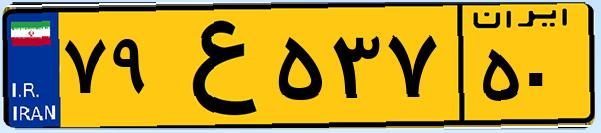0: (525, 38, 570, 115)
3: (330, 28, 385, 110)
5: (270, 28, 330, 110), (475, 38, 525, 113)
7: (385, 28, 445, 110), (57, 26, 110, 100)
9: (110, 28, 158, 98)
ع: (158, 12, 270, 120)
